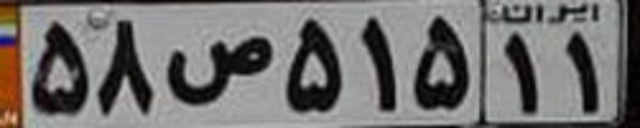1: (357, 16, 399, 111), (562, 29, 600, 114), (497, 32, 536, 114)
5: (411, 14, 470, 109), (31, 22, 90, 115), (286, 17, 341, 111)
8: (98, 19, 151, 118)
saat: (166, 34, 274, 105)
